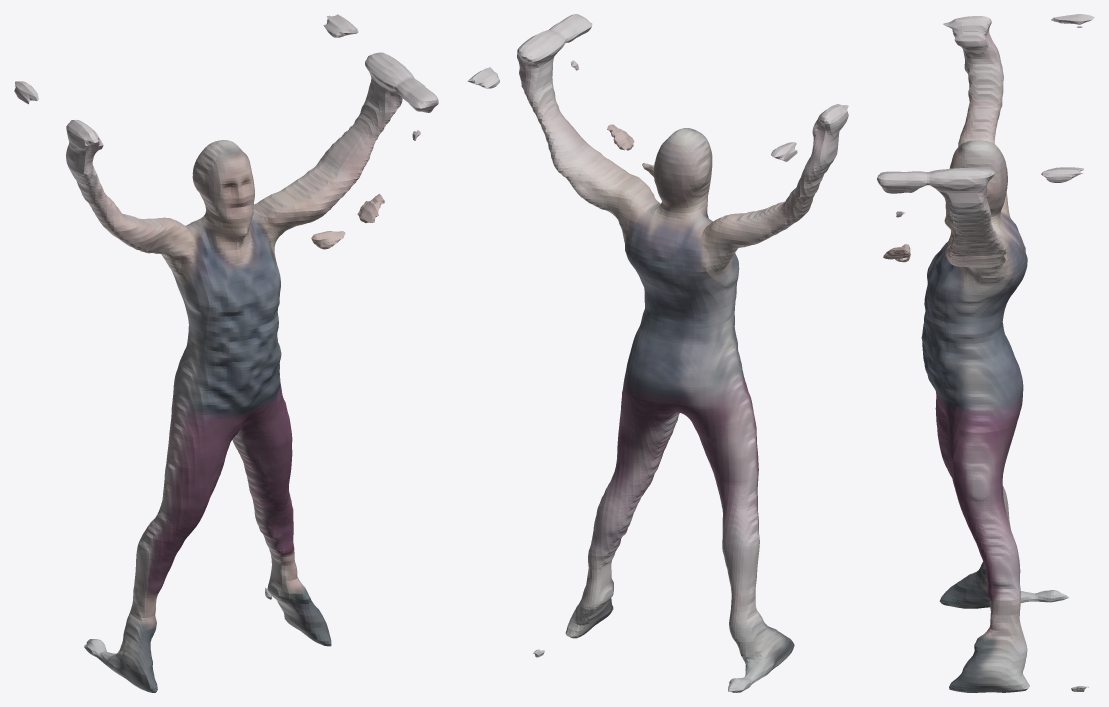
File: 0043_tex.glb
The picture shows the model from 3 angles, left to right: view 1: azimuth 30°, elevation 25°; view 2: azimuth 150°, elevation 25°; view 3: azimuth 270°, elevation 25°; orthographic projection. The views are drawn at different scales.
Parts seen in each view (by area): view 1: 0043_tex.obj; view 2: 0043_tex.obj; view 3: 0043_tex.obj.
Boxes of the visible parts, x1=… form: 0043_tex.obj: x1=14, y1=14, x2=438, y2=692; 0043_tex.obj: x1=467, y1=14, x2=848, y2=692; 0043_tex.obj: x1=877, y1=14, x2=1094, y2=692.
Size of the model in its own units: 0.5297 by 0.8971 by 0.3147.
